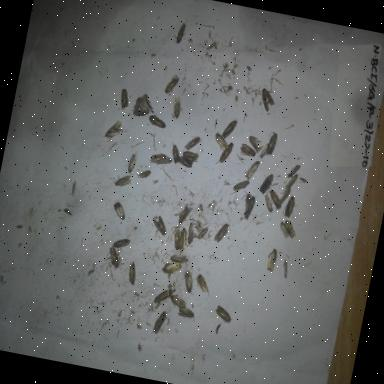pbw: (120, 257, 145, 292), (208, 216, 234, 248), (170, 198, 195, 228), (103, 116, 127, 146), (150, 308, 172, 340), (219, 115, 244, 143), (164, 93, 186, 124), (212, 302, 236, 330), (154, 256, 184, 278), (254, 166, 276, 196), (240, 156, 267, 180), (191, 268, 214, 296), (258, 86, 280, 115), (104, 243, 125, 272), (166, 141, 186, 171), (265, 130, 285, 158), (215, 140, 235, 168), (121, 149, 141, 177), (106, 230, 132, 251), (174, 224, 192, 254), (115, 86, 133, 116), (263, 244, 281, 274), (152, 284, 174, 308), (210, 130, 232, 154), (282, 166, 302, 192), (180, 268, 198, 296), (172, 19, 190, 47), (169, 287, 189, 312), (162, 72, 182, 96), (241, 194, 258, 222), (259, 190, 277, 216), (133, 163, 154, 185), (264, 188, 284, 211), (182, 130, 202, 152), (244, 132, 264, 154), (168, 249, 191, 268), (193, 220, 211, 244), (146, 114, 170, 132), (182, 221, 198, 248), (175, 302, 196, 322), (110, 200, 129, 222), (282, 194, 298, 219), (283, 213, 299, 238), (152, 153, 174, 171), (112, 173, 133, 191), (277, 220, 294, 242), (180, 146, 203, 162), (278, 254, 292, 280), (148, 148, 168, 166), (239, 142, 260, 158), (170, 228, 184, 252), (286, 160, 302, 181), (177, 156, 196, 172), (133, 95, 150, 112), (139, 92, 155, 110), (278, 186, 292, 206), (240, 192, 254, 212), (258, 140, 271, 160), (132, 107, 148, 119)
